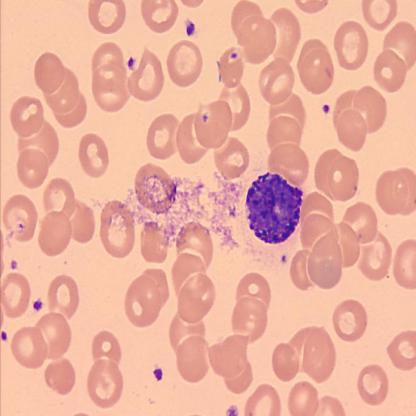Basophil: (245, 168, 305, 249)
